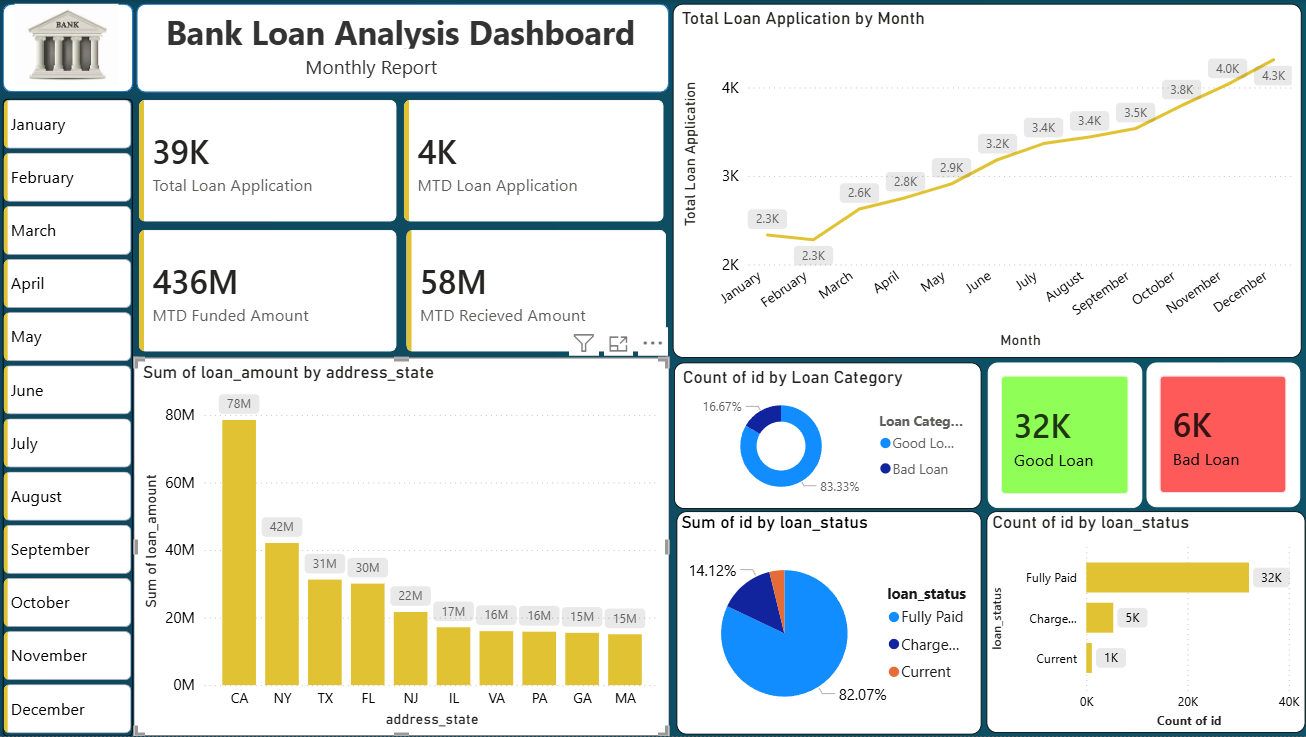

Layout of this report page (visuals, bound fields, positions):
{"tool":"powerbi","page":{"name":"Page 1","canvas":[1280,720],"ordinal":0},"visuals":[{"type":"advancedSlicerVisual","fields":{"Values":["Calendar.Date.Variation.Date Hierarchy.Month"]},"box":[3.7,96.6,127.2,623.6],"z":0},{"type":"cardVisual","fields":{"Data":["financial_loan.Total Loan Application"]},"box":[132.1,92.9,262.9,129.6],"z":1000},{"type":"cardVisual","fields":{"Data":["financial_loan.MTD Loan Application"]},"box":[391.3,92.9,264.1,129.6],"z":2000},{"type":"cardVisual","fields":{"Data":["financial_loan.MTD Funded Amount"]},"box":[132.1,220.1,262.9,129.6],"z":3000},{"type":"cardVisual","fields":{"Data":["financial_loan.MTD Recieved Amount F"]},"box":[393.8,220.1,264.1,129.6],"z":4000},{"type":"lineChart","fields":{"Category":["Calendar.Date.Variation.Date Hierarchy.Month"],"Y":["financial_loan.Total Loan Application"]},"box":[659.1,3.7,615.1,346.1],"z":5000},{"type":"barChart","fields":{"Category":["financial_loan.loan_status"],"Y":["CountNonNull(financial_loan.id)"]},"box":[966,500.1,311.8,217],"z":6000},{"type":"pieChart","fields":{"Y":["Sum(financial_loan.id)"],"Category":["financial_loan.loan_status"]},"box":[662.8,500.1,298.4,218],"z":7000},{"type":"shape","box":[4.1,4.1,127.6,86.4],"z":8000},{"type":"shape","box":[134.5,3.7,520.9,86.8],"z":9000},{"type":"image","box":[0,4.1,131.7,81],"z":10000},{"type":"textbox","box":[149.2,4.9,491.6,62.4],"z":11000},{"type":"textbox","box":[294.7,47.7,171.2,37.9],"z":12000},{"type":"columnChart","fields":{"Y":["Sum(financial_loan.loan_amount)"],"Category":["financial_loan.address_state"]},"box":[132.1,349.7,523.4,370.5],"z":13000},{"type":"donutChart","fields":{"Category":["financial_loan.Loan Category"],"Y":["CountNonNull(financial_loan.id)"]},"box":[660.3,354.6,300.8,143.1],"z":14000},{"type":"cardVisual","fields":{"Data":["financial_loan.Good Loan"]},"box":[967.3,354.6,151,142],"z":15000},{"type":"cardVisual","fields":{"Data":["financial_loan.Bad Loan"]},"box":[1122.6,354.6,150.4,141.8],"z":16000}]}

Visuals, with their boxes in screenshot pixels (x1, y1, x2, y2), scaled from the page's 1280x720 canvas onto the 1306x737 screenshot:
advancedSlicerVisual - Calendar.Date.Variation.Date Hierarchy.Month: pyautogui.locateOnScreen(4, 99, 134, 736)
cardVisual - financial_loan.Total Loan Application: pyautogui.locateOnScreen(135, 95, 403, 228)
cardVisual - financial_loan.MTD Loan Application: pyautogui.locateOnScreen(399, 95, 669, 228)
cardVisual - financial_loan.MTD Funded Amount: pyautogui.locateOnScreen(135, 225, 403, 358)
cardVisual - financial_loan.MTD Recieved Amount F: pyautogui.locateOnScreen(402, 225, 671, 358)
lineChart - Calendar.Date.Variation.Date Hierarchy.Month x financial_loan.Total Loan Application: pyautogui.locateOnScreen(672, 4, 1300, 358)
barChart - financial_loan.loan_status x CountNonNull(financial_loan.id): pyautogui.locateOnScreen(986, 512, 1304, 734)
pieChart - Sum(financial_loan.id) x financial_loan.loan_status: pyautogui.locateOnScreen(676, 512, 981, 735)
shape: pyautogui.locateOnScreen(4, 4, 134, 93)
shape: pyautogui.locateOnScreen(137, 4, 669, 93)
image: pyautogui.locateOnScreen(0, 4, 134, 87)
textbox: pyautogui.locateOnScreen(152, 5, 654, 69)
textbox: pyautogui.locateOnScreen(301, 49, 475, 88)
columnChart - Sum(financial_loan.loan_amount) x financial_loan.address_state: pyautogui.locateOnScreen(135, 358, 669, 736)
donutChart - financial_loan.Loan Category x CountNonNull(financial_loan.id): pyautogui.locateOnScreen(674, 363, 981, 509)
cardVisual - financial_loan.Good Loan: pyautogui.locateOnScreen(987, 363, 1141, 508)
cardVisual - financial_loan.Bad Loan: pyautogui.locateOnScreen(1145, 363, 1299, 508)
